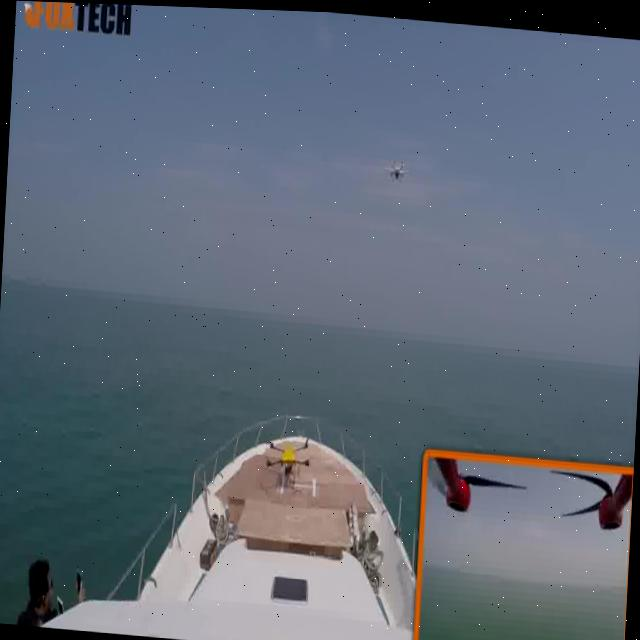drone: (252, 413, 319, 497), (376, 150, 412, 182)
